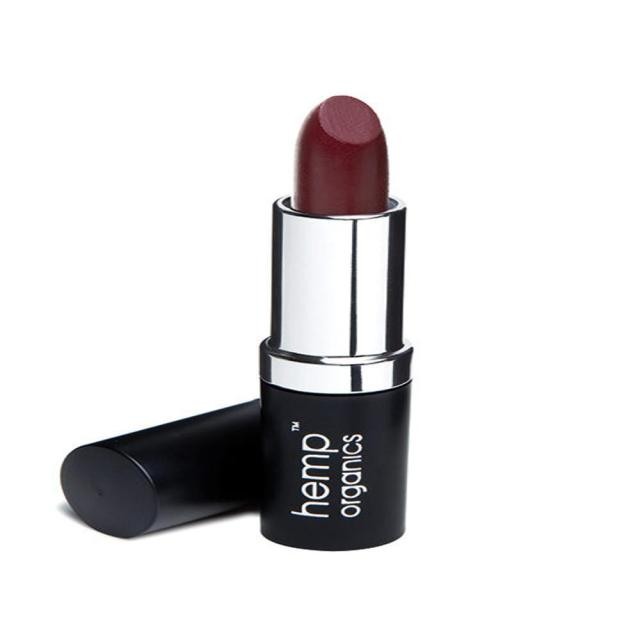lipstick: (257, 88, 423, 558)
